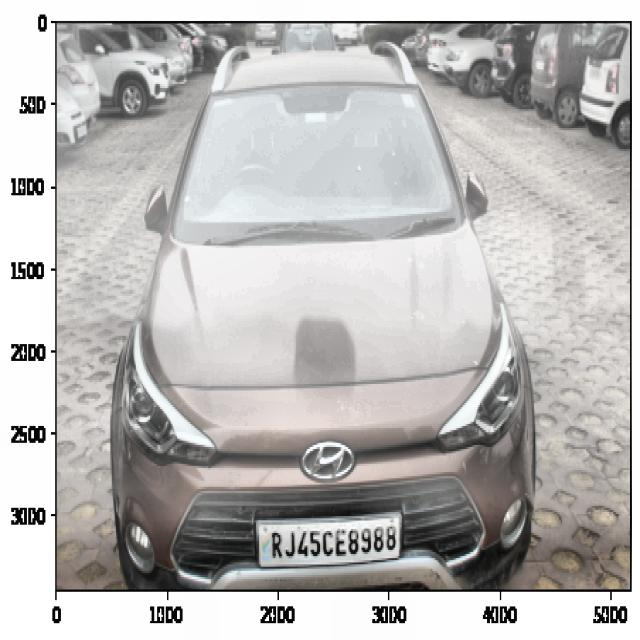license_plate: (264, 514, 399, 569)
